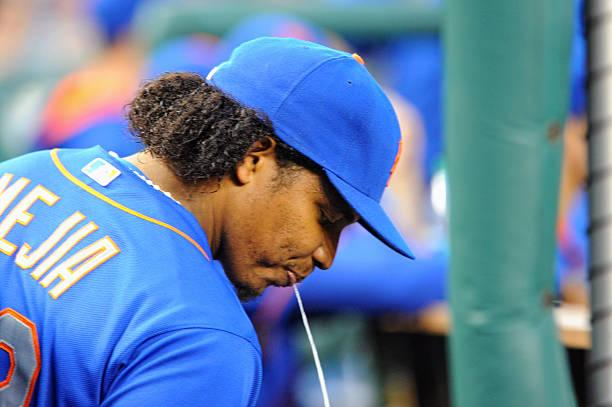Spitting: (114, 12, 415, 350)
